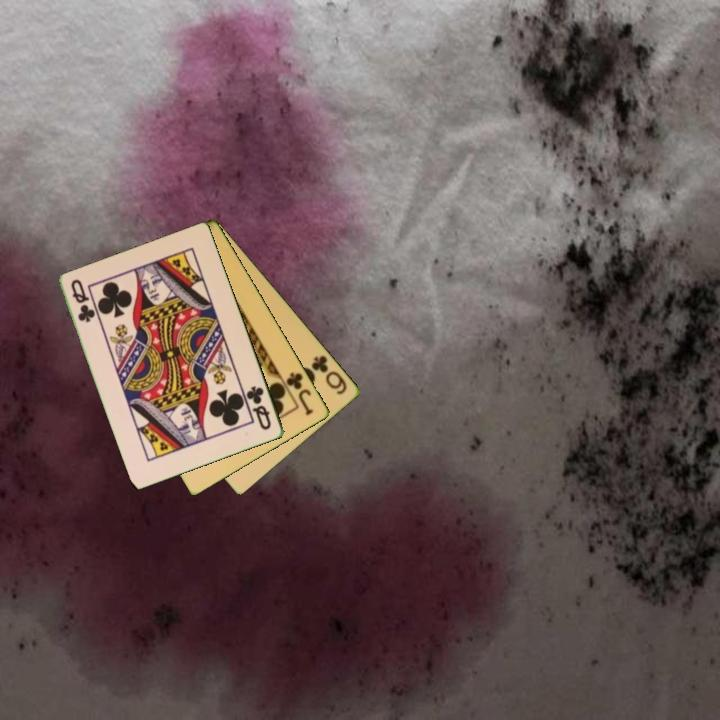6c: (308, 352, 350, 398)
Jc: (283, 368, 316, 418)
Qc: (243, 382, 275, 433), (68, 276, 98, 326)
